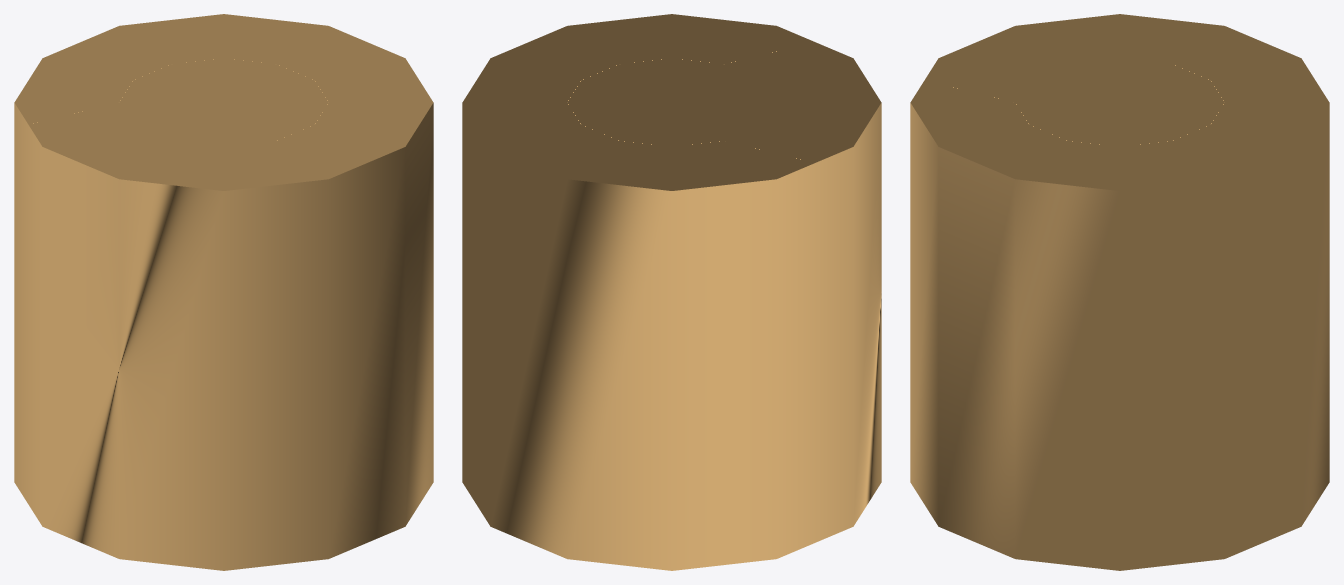
3 renders of one model, left to right at view 1: azimuth 30°, elevation 25°; view 2: azimuth 150°, elevation 25°; view 3: azimuth 270°, elevation 25°, orthographic.
Parts seen in each view (by area): view 1: Cylinder; view 2: Cylinder; view 3: Cylinder.
Boxes of the visible parts, x1=… form: Cylinder: x1=14, y1=14, x2=433, y2=570; Cylinder: x1=462, y1=14, x2=881, y2=570; Cylinder: x1=910, y1=14, x2=1329, y2=570.
Size of the model in its own units: 100 by 100 by 100.
